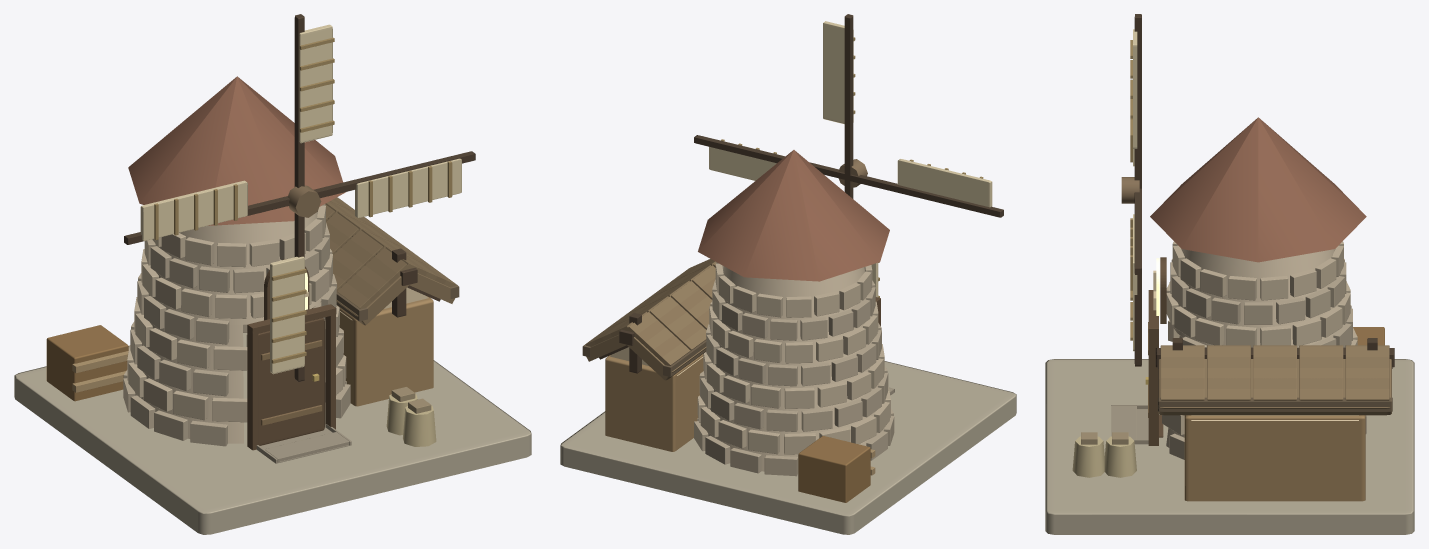
The model's file is mill-0.glb.
3 views of the same model, side by side, from view 1: azimuth 30°, elevation 25°; view 2: azimuth 150°, elevation 25°; view 3: azimuth 270°, elevation 25° (orthographic). The views are drawn at different scales.
Visible parts, largest first — view 1: mill-0-0, mill-fan, door-hinge; view 2: mill-0-0, mill-fan; view 3: mill-0-0, mill-fan.
Boxes of the visible parts, x1,y1,x2,y2 form: mill-0-0: (14,76,531,534); mill-fan: (124,14,475,382); door-hinge: (258,318,324,445); mill-0-0: (560,150,1016,534); mill-fan: (694,14,1003,297); mill-0-0: (1045,117,1414,534); mill-fan: (1121,14,1141,366).
Bounding box in the file's own units: 3.1 × 3.7 × 2.86.
